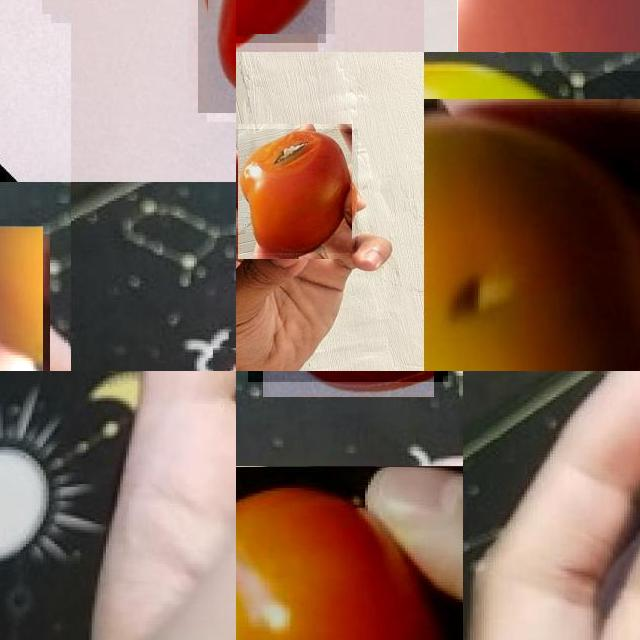Fresh Tomato: (236, 466, 463, 640)
Rotten Tomato: (424, 71, 640, 371), (236, 129, 358, 253), (0, 226, 43, 371)
